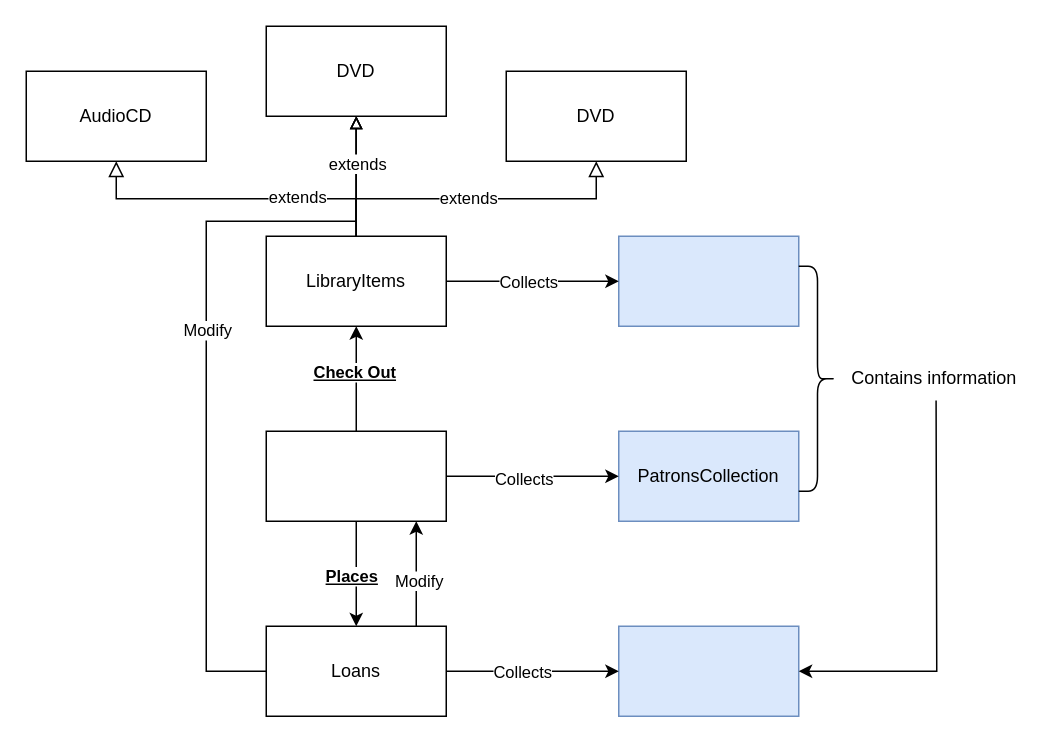
The diagram is 1058 pixels wide and 743 high, and some of its shapes have lost their labels. The shapes that lost their labels are listed below. From the top down, each one's centre as x and y in pixels, then its label:
the point at 708,280: LibraryItemsCollection
the point at 355,475: Patrons
the point at 708,670: LoansCollection
